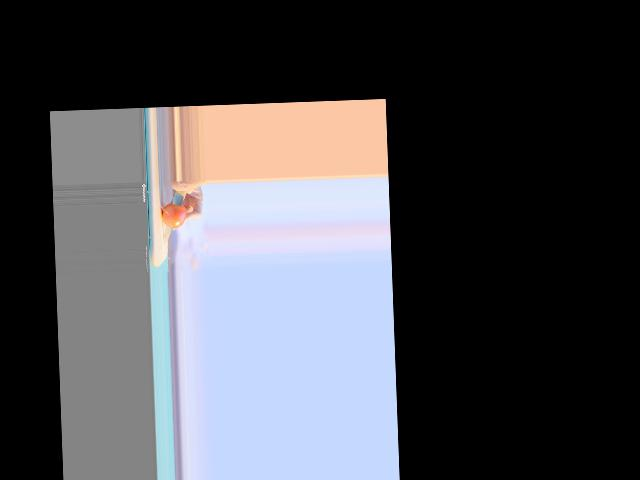tomato: (161, 202, 186, 229)
